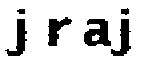a: (83, 16, 112, 49)
j: (5, 4, 32, 59), (110, 5, 137, 57)
r: (43, 16, 73, 47)
